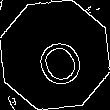O_NW: (24, 23, 86, 87)
